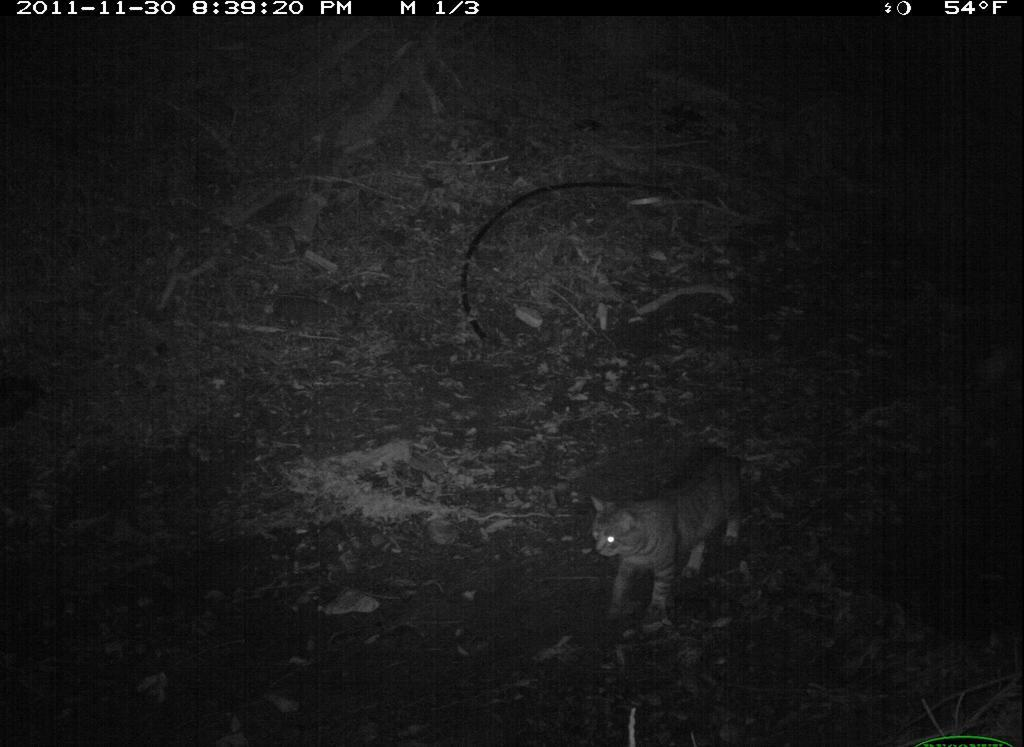cat: (587, 443, 748, 625)
